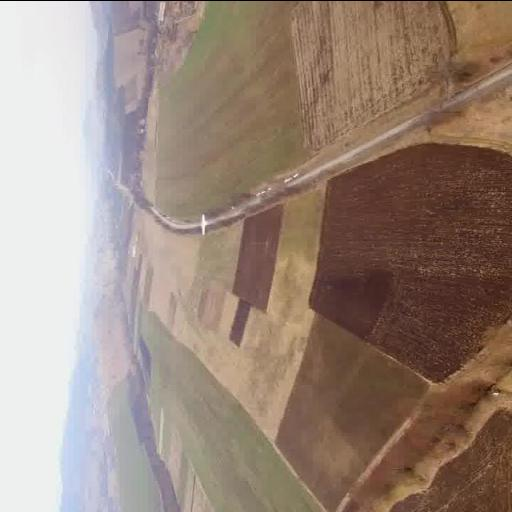uav: (194, 206, 217, 236)
